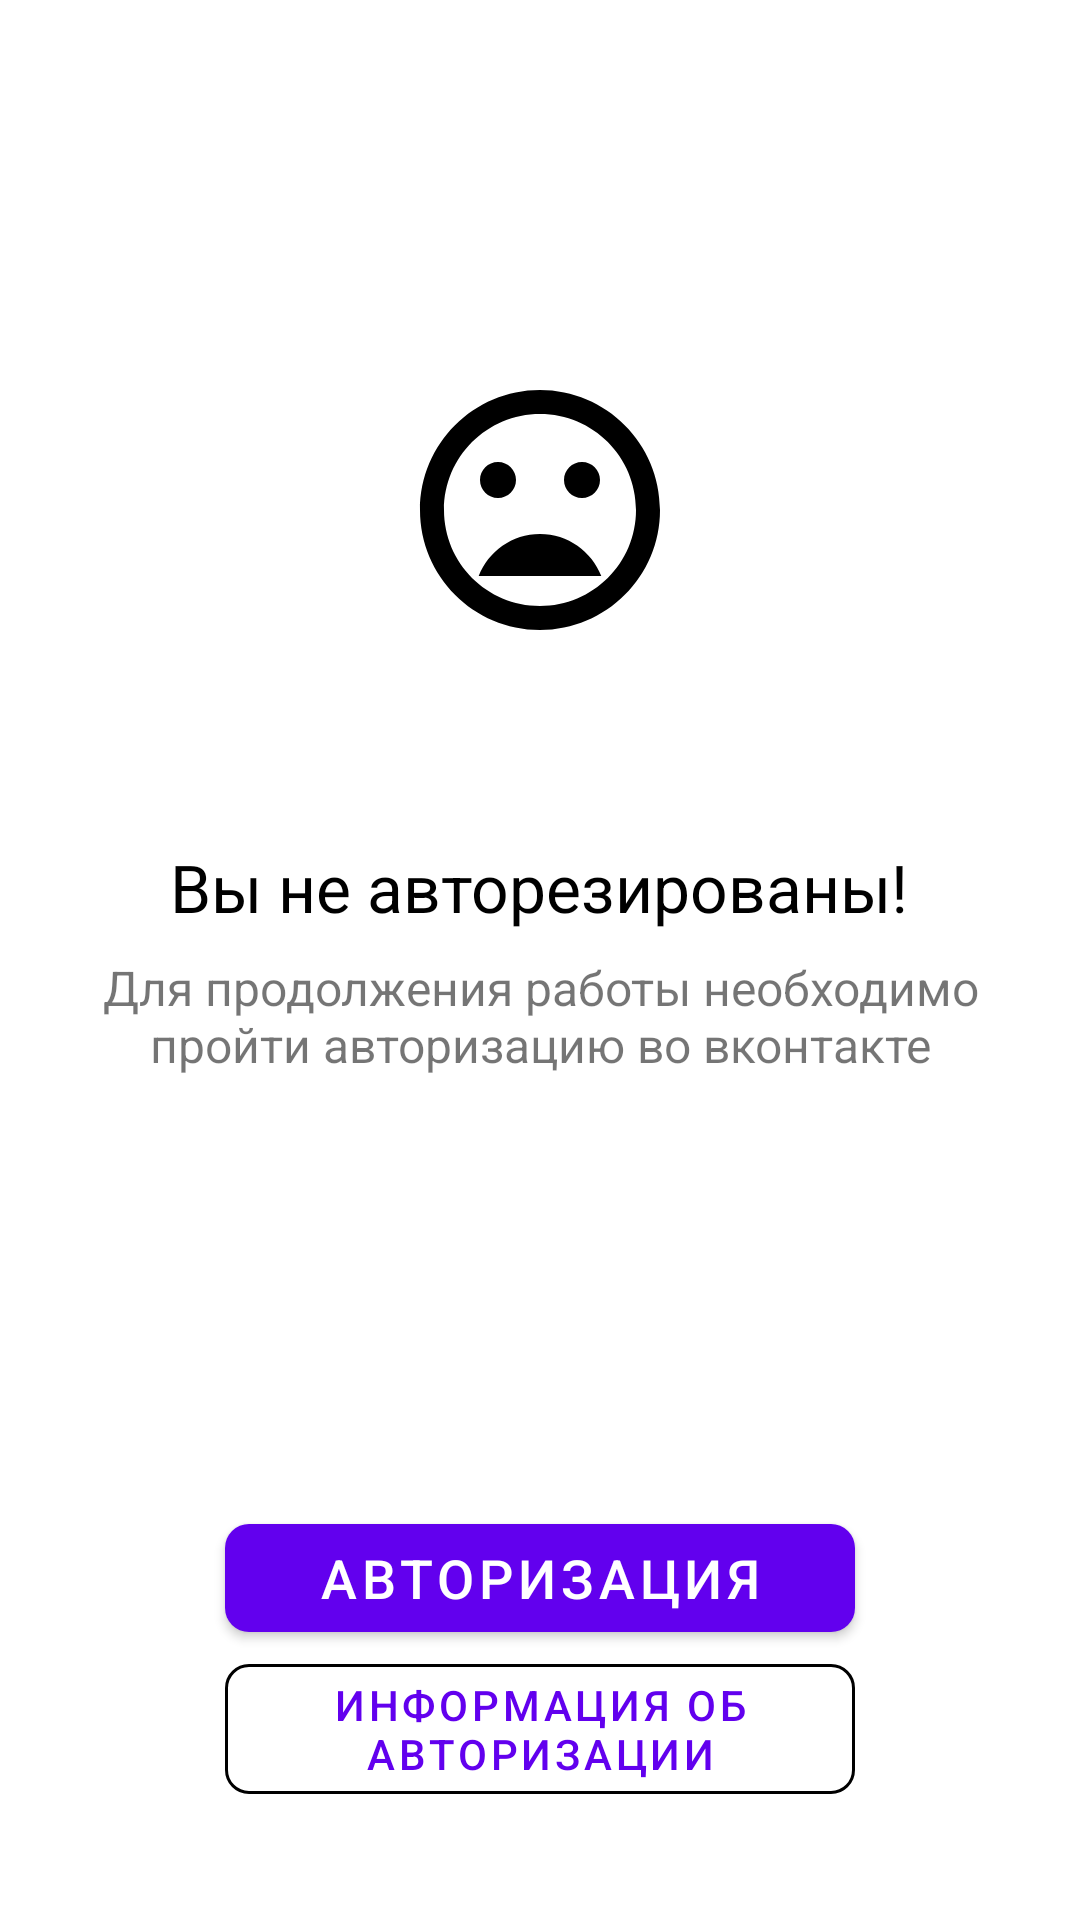

Icon click points for this 1080 × 1920 phone screenshot, format (x,y):
mood bad: (540,510)
